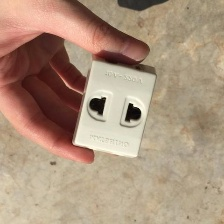three_eye_plug: (68, 51, 159, 161)
